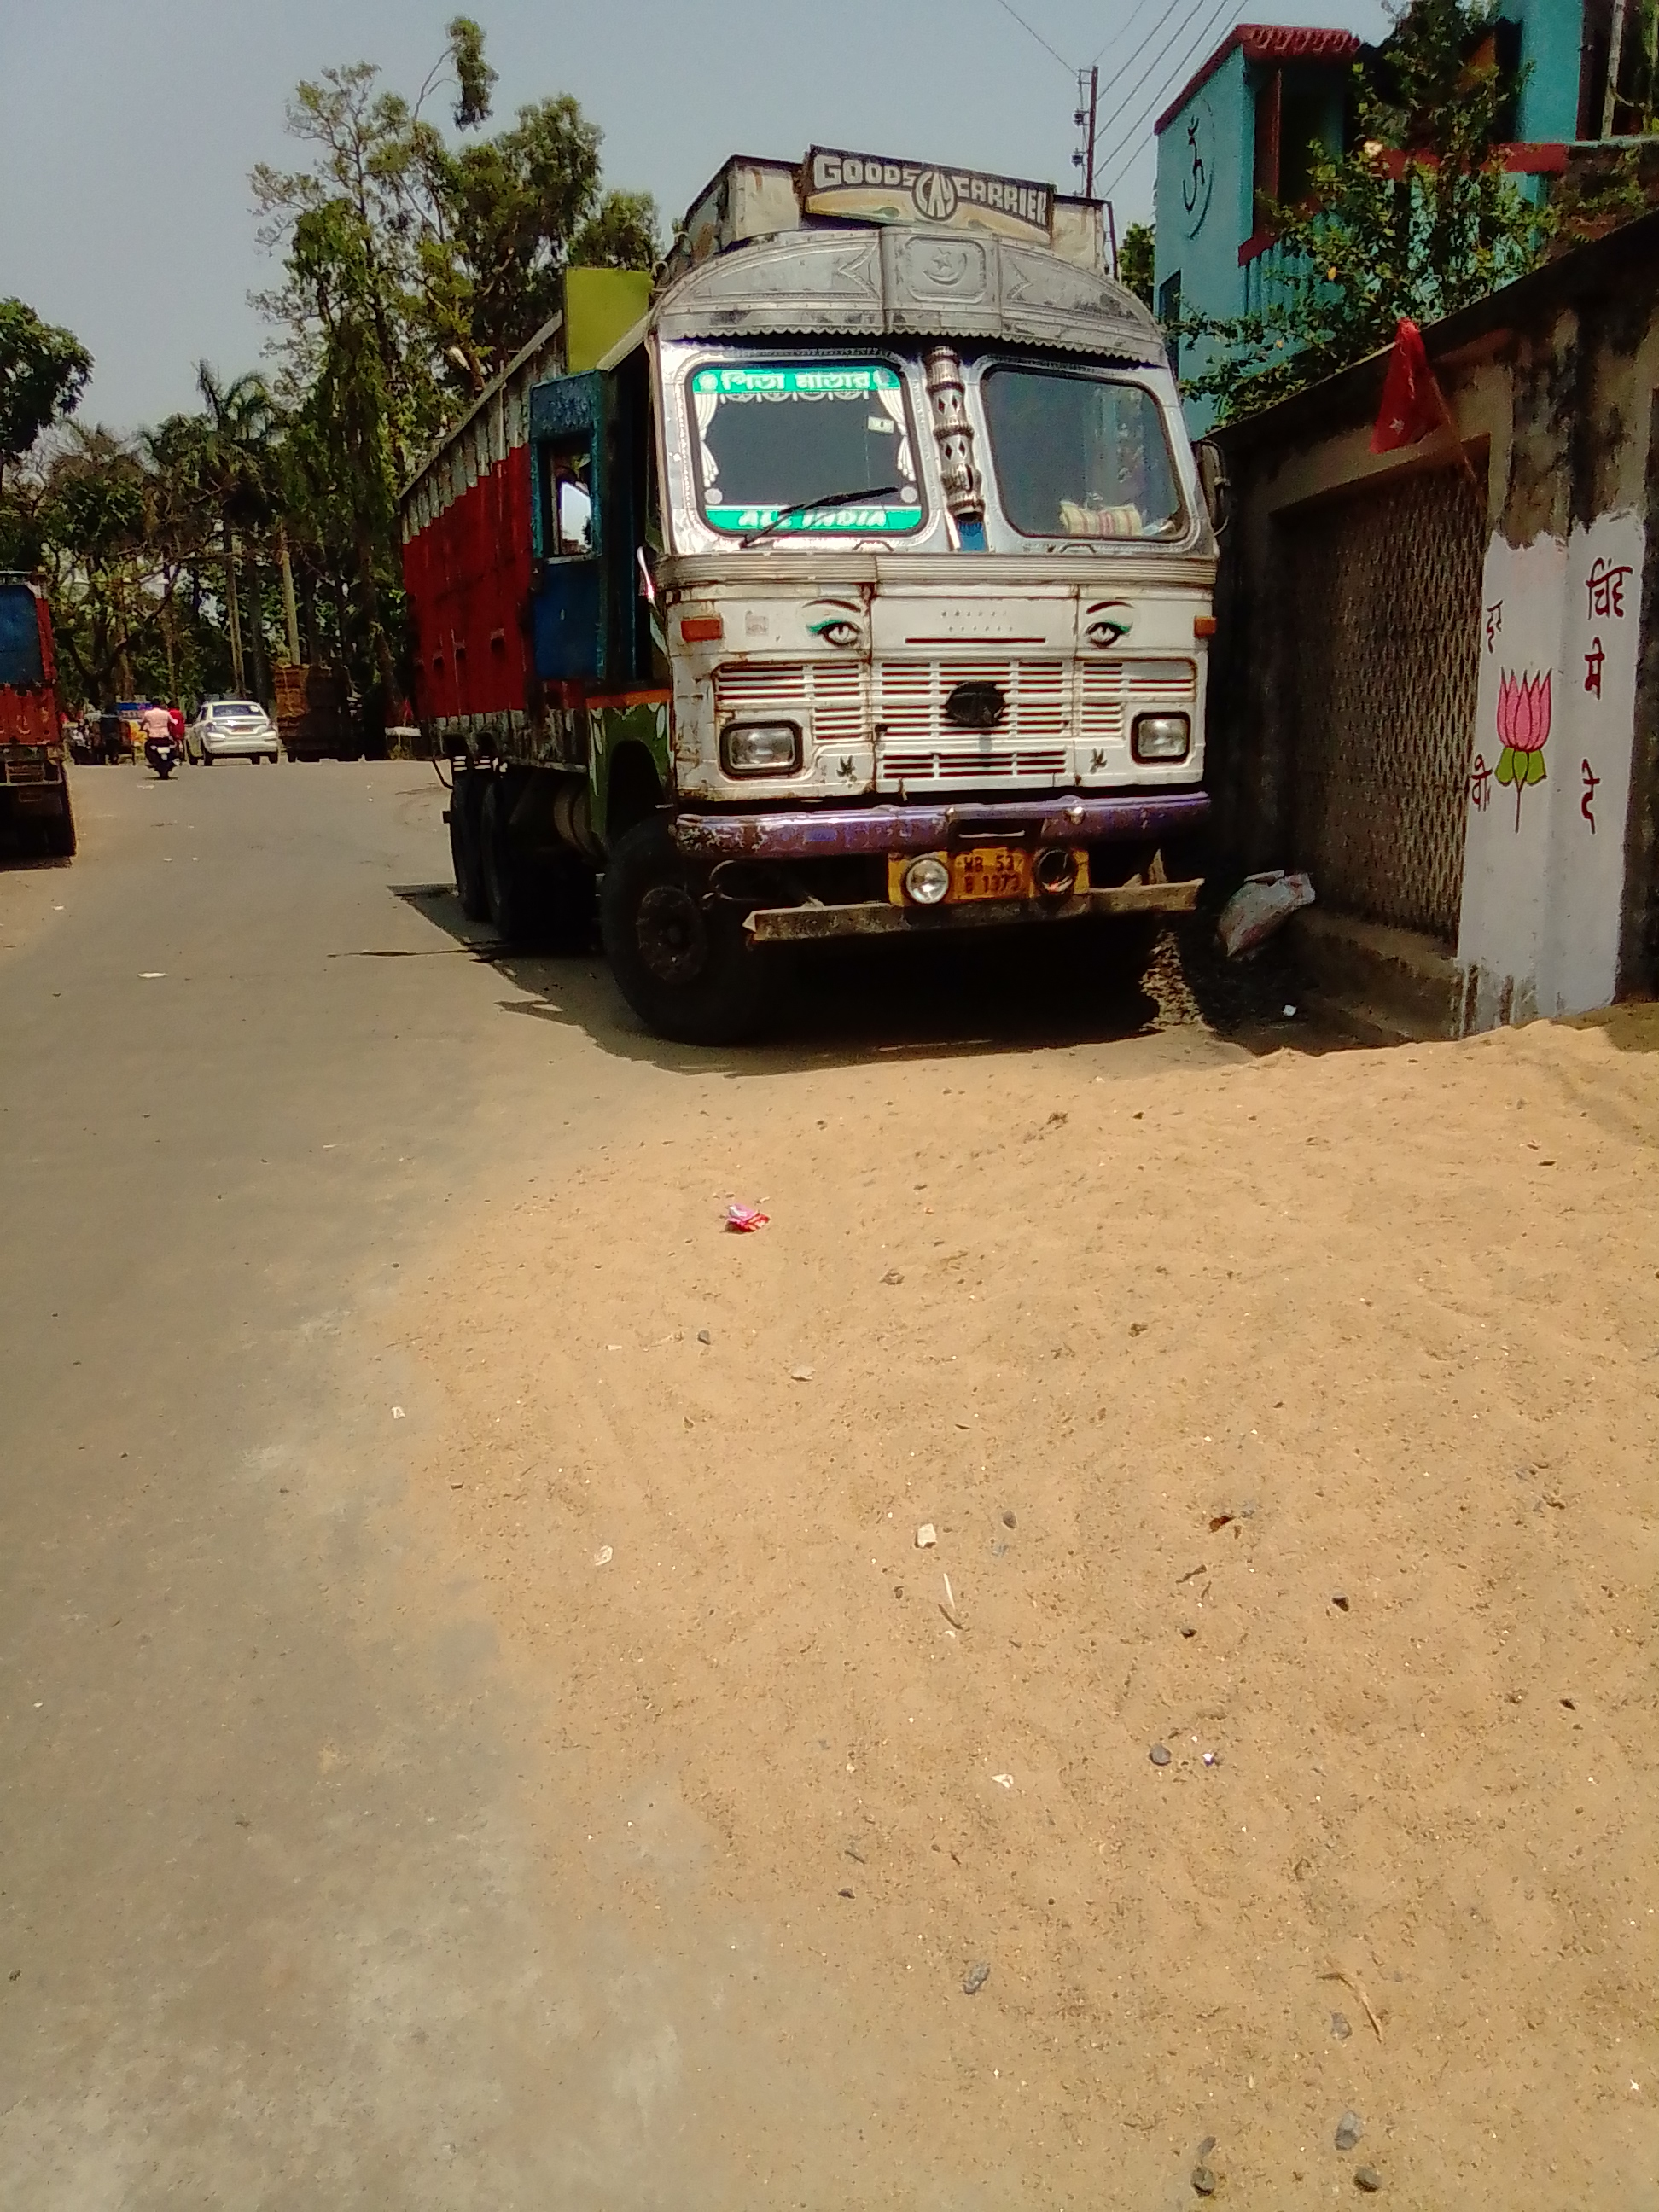truck: (383, 139, 1237, 1045), (0, 566, 78, 855), (270, 655, 369, 765)
